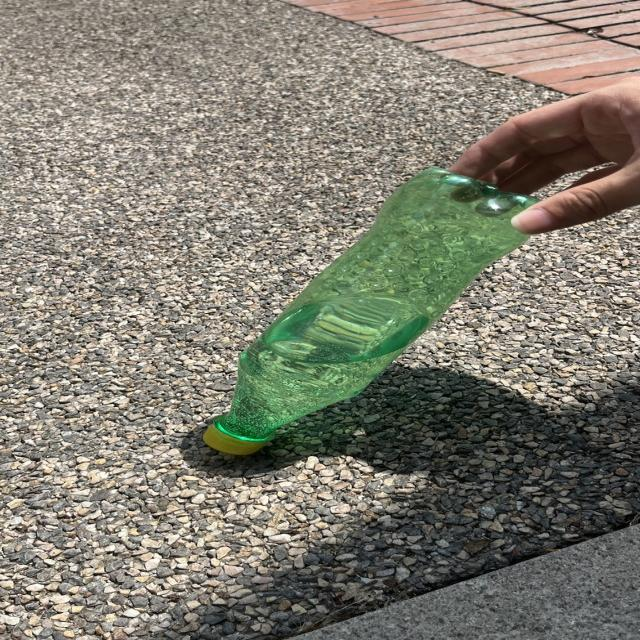medium: (204, 168, 534, 453)
